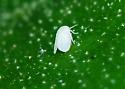whitefly: (52, 23, 80, 57)
